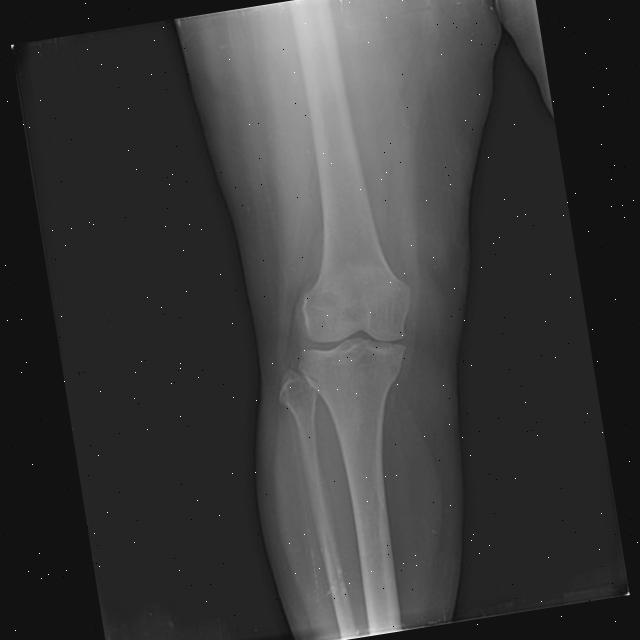Fracture: (325, 562, 350, 602)
